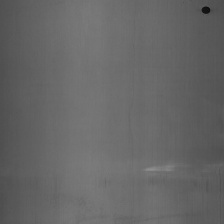punching_hole: (200, 3, 211, 15)
